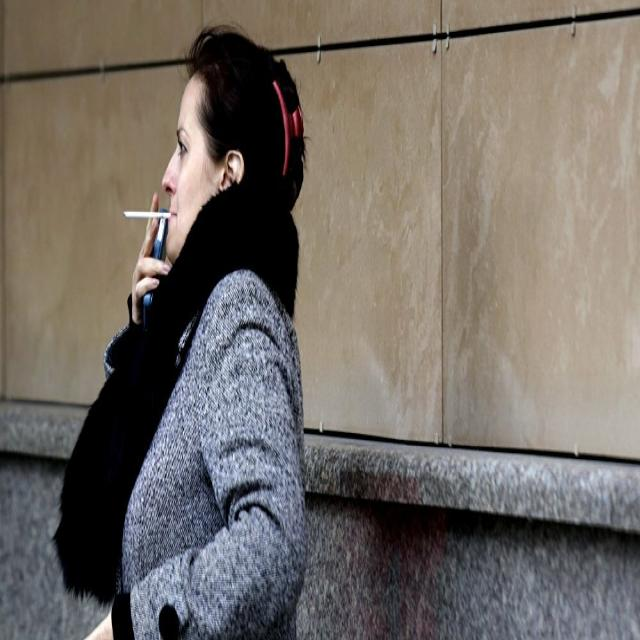smoke: (122, 206, 177, 228)
